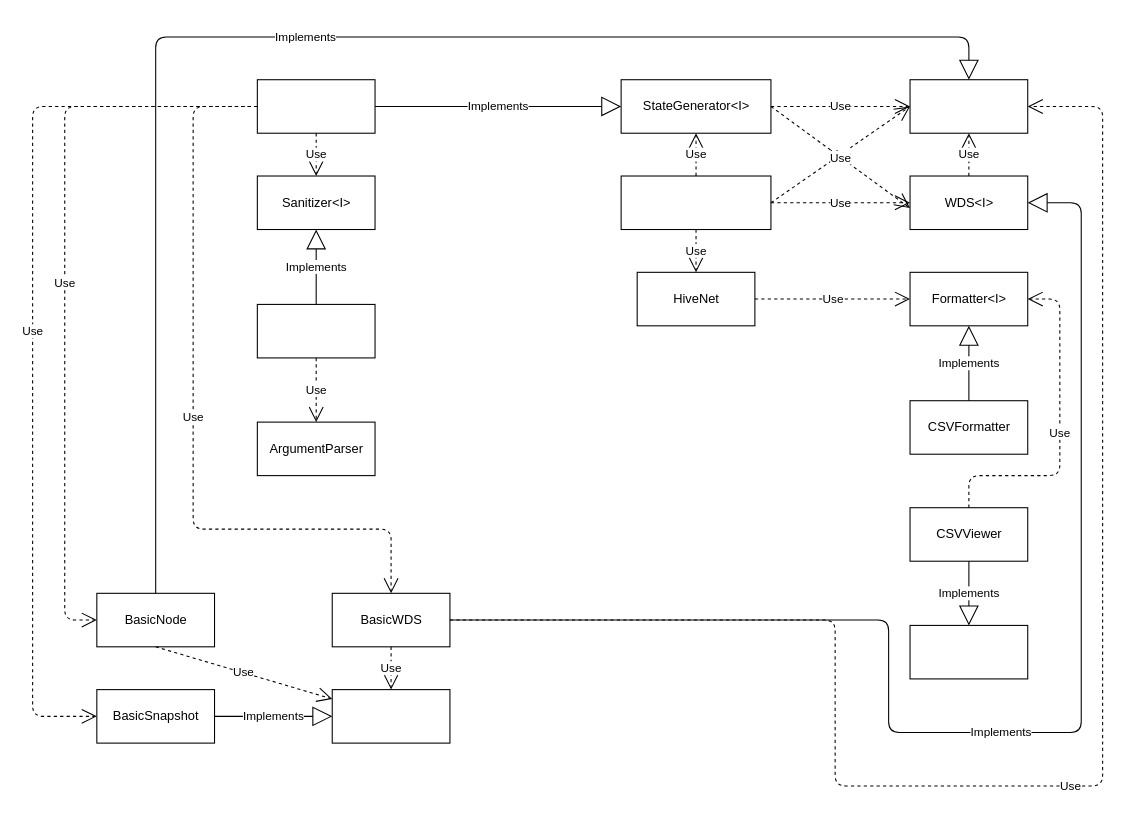
Image size: 1136x820. Some labels were removed from this diagram. The shapes that lost their labels are listed below. From the top down, each one's box as (x1, y1, x2, y2) in pixels, then its label:
(256, 79, 375, 133): BasicGenerator
(909, 79, 1028, 133): Node<I>
(620, 175, 771, 230): ResourceAllocator
(256, 303, 375, 358): BasicSanitizer
(909, 624, 1028, 679): Viewer<I>
(331, 689, 450, 743): Snapshot<I>
